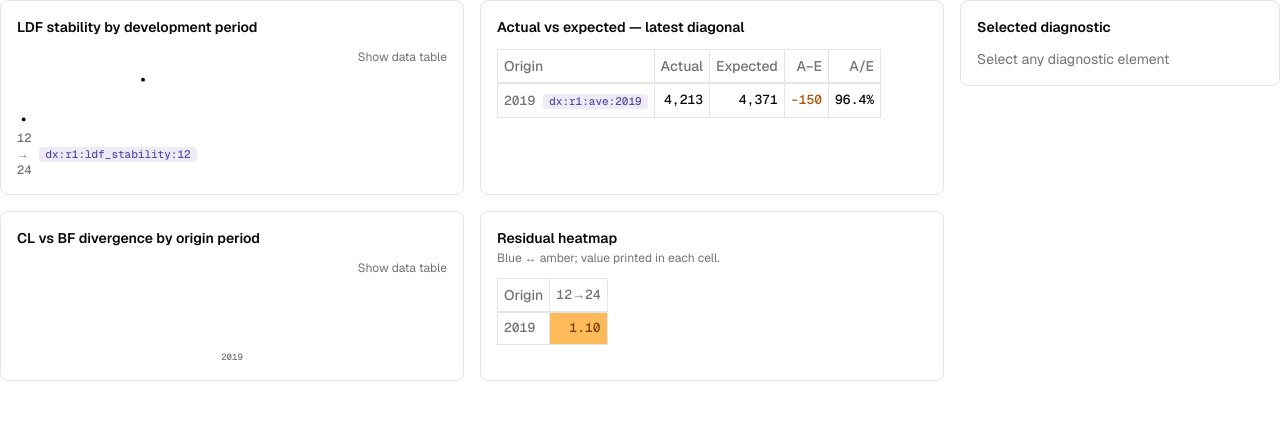
Test: DiagnosticsPanels (Story 4.5) › renders divergence verbatim, never clUltimate − bfUltimate (AC5)
Note: Reveal the divergence data table (the 2nd "Show data table" toggle).
Click the button "Show data table" below "CL vs BF divergence by origin period": {"x": 402, "y": 268} [358,260,447,276]
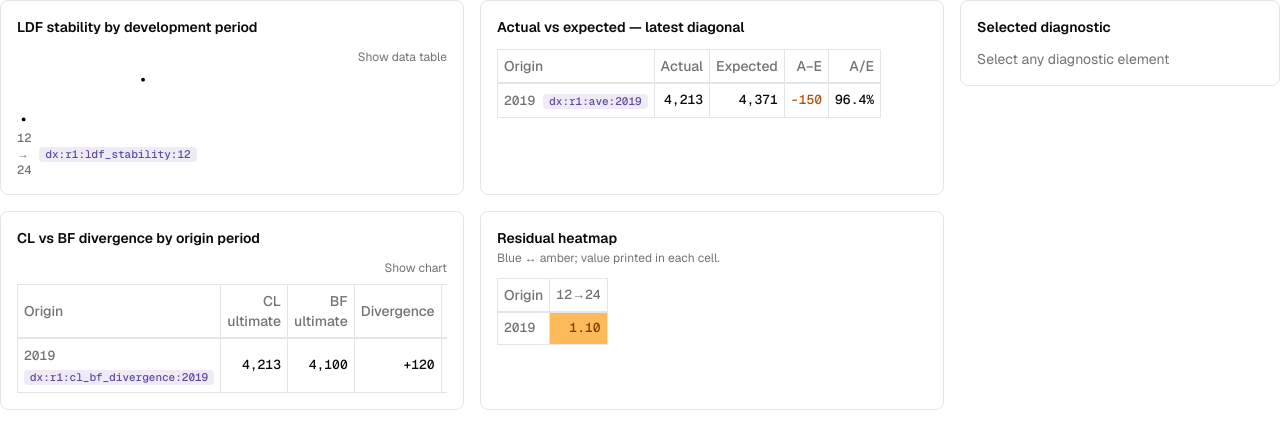
Expected: the text "+120" is shown, [354,339,441,392]
